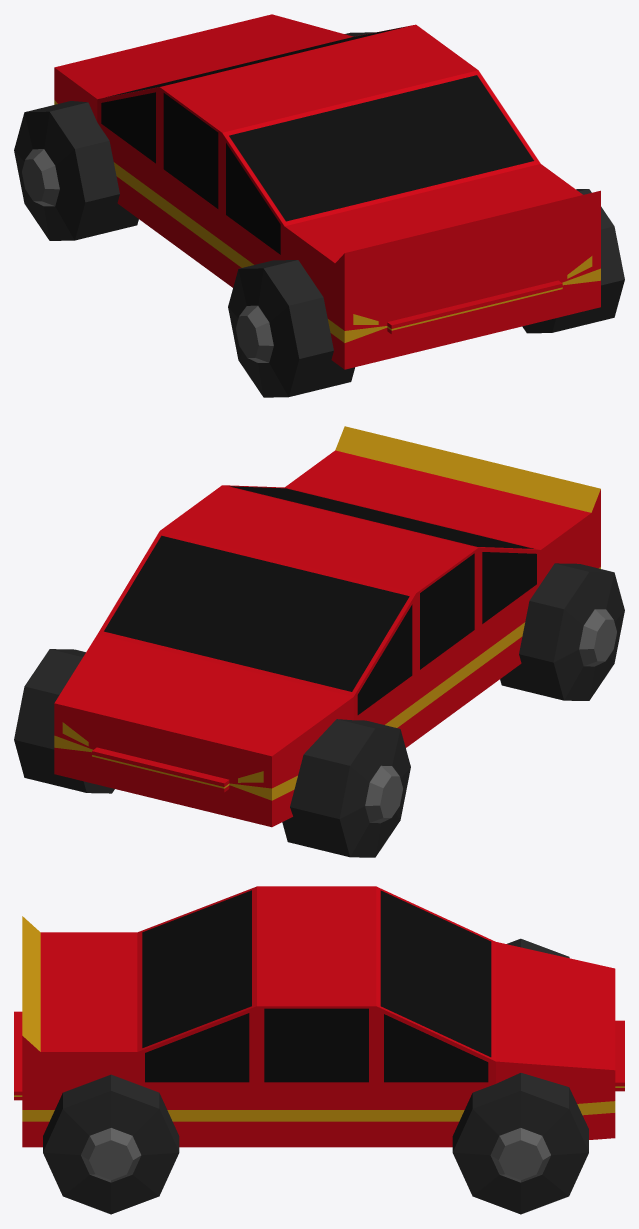
3 views of the same model, one above another, from view 1: azimuth 30°, elevation 25°; view 2: azimuth 150°, elevation 25°; view 3: azimuth 270°, elevation 25° (orthographic). The views are drawn at different scales.
Parts seen in each view (by area): view 1: Red Car; view 2: Red Car; view 3: Red Car.
Part boxes in pixels (<box>): Red Car: <box>14,14,624,397</box>; Red Car: <box>14,426,624,857</box>; Red Car: <box>14,886,624,1214</box>.
Bounding box in the file's own units: 140 × 74.97 × 216.
